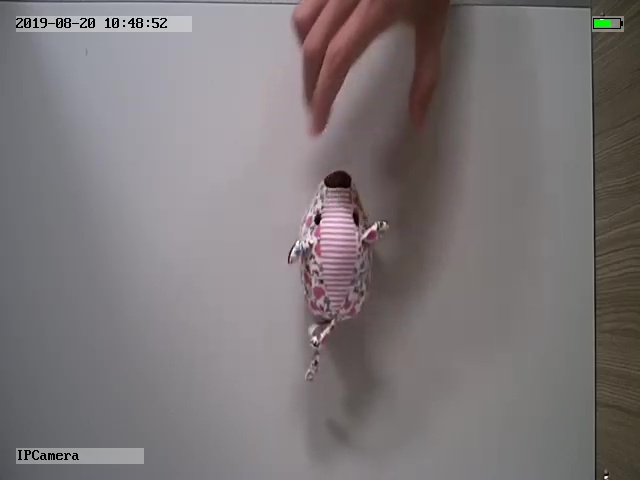pig: (288, 170, 392, 382)
